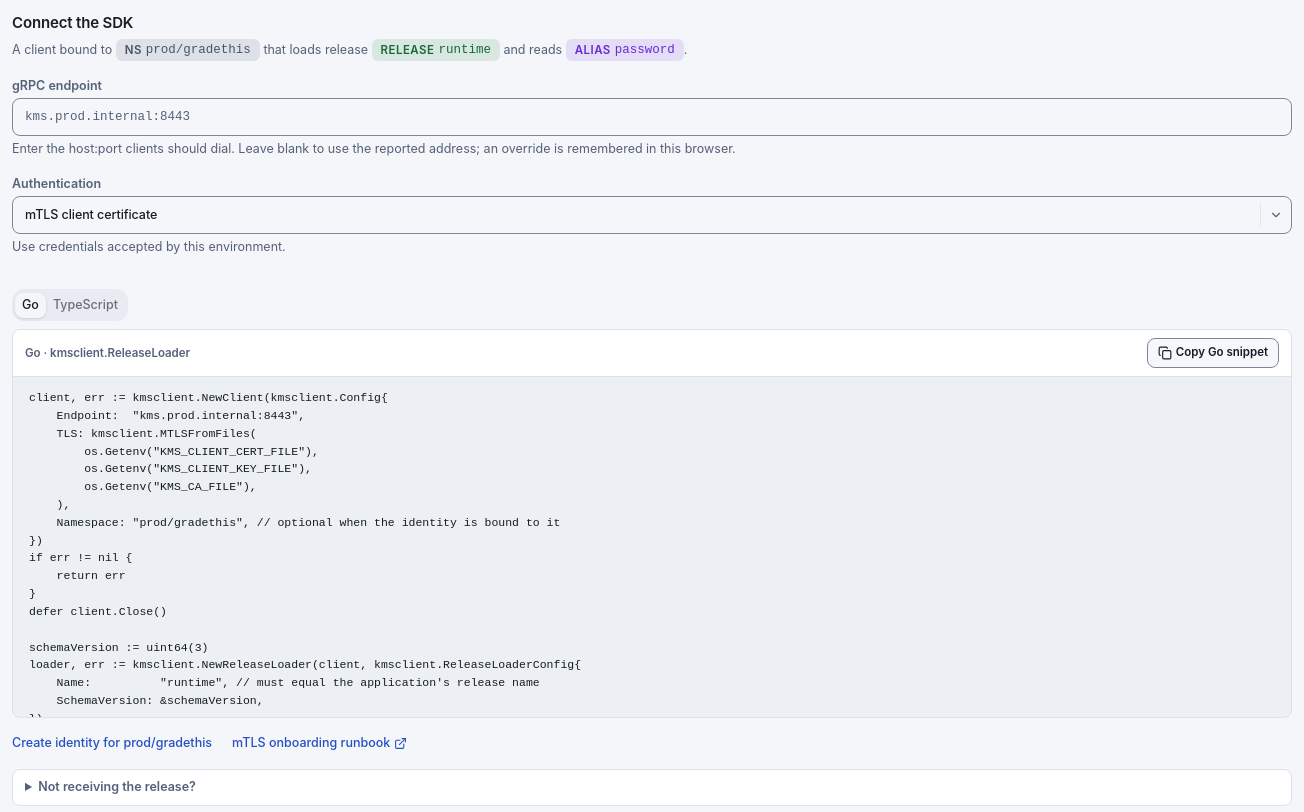
it: typed SDK onboarding › uses a secret-first mixed contract and preserves the chosen authentication and return track
Click the dropdown named "Authentication": [91, 215] box 12,196 -> 1292,234
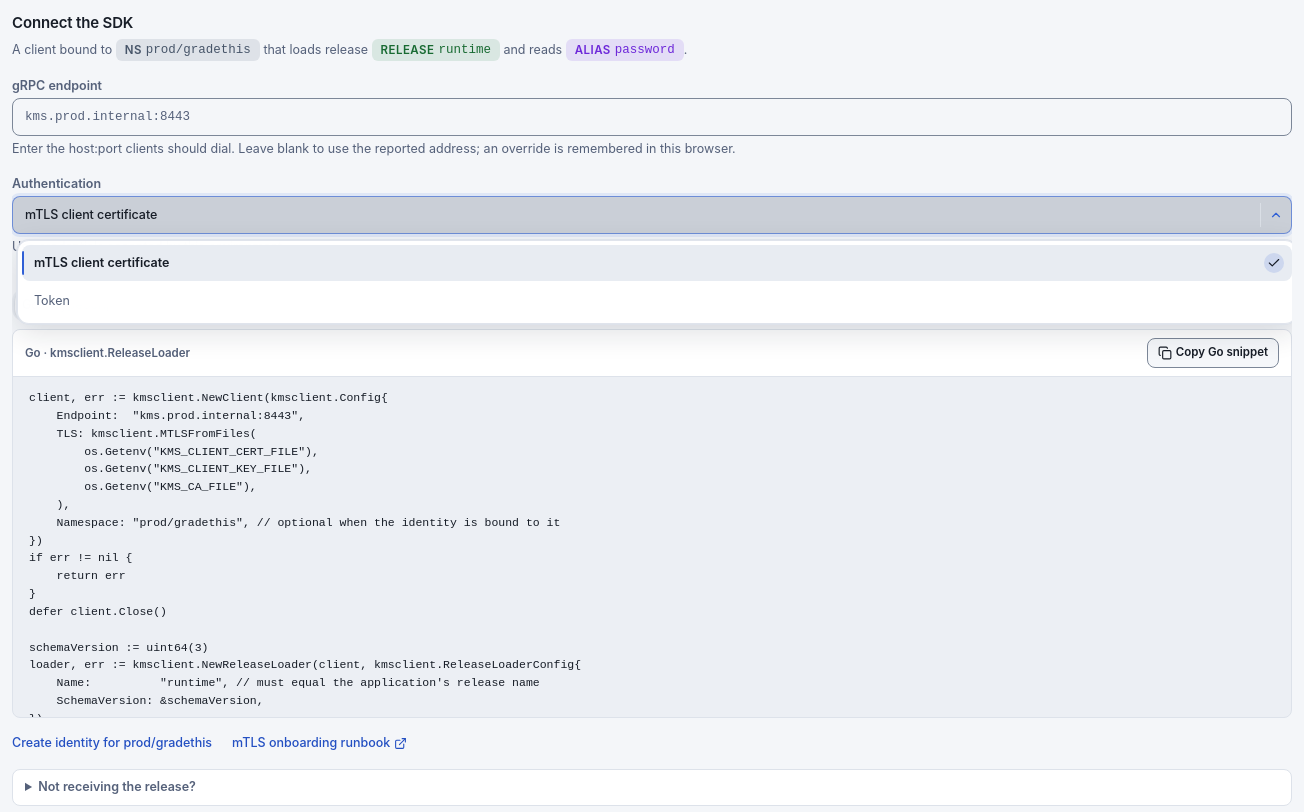
Click the option "Token": [52, 301] box 34,293 -> 70,308
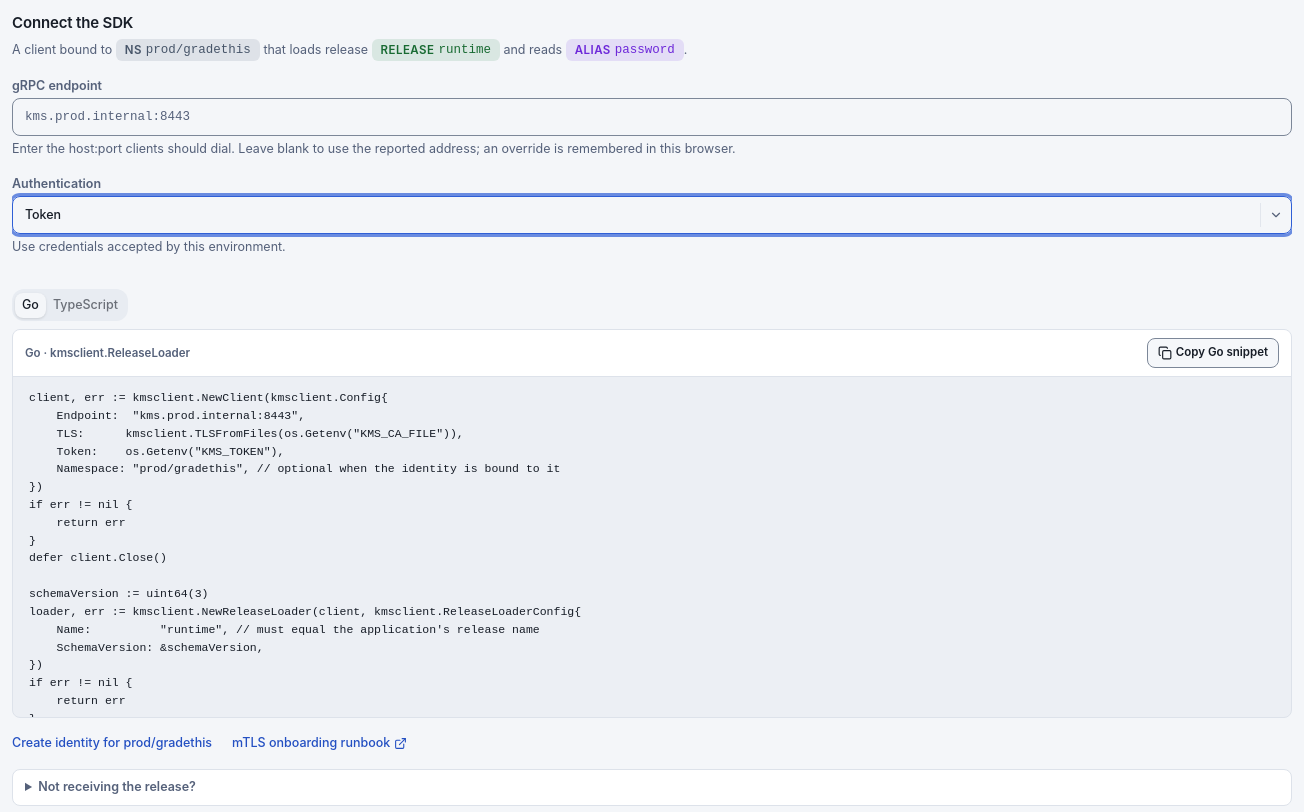
Click the tab "TypeScript": [85, 305] box 46,293 -> 125,318
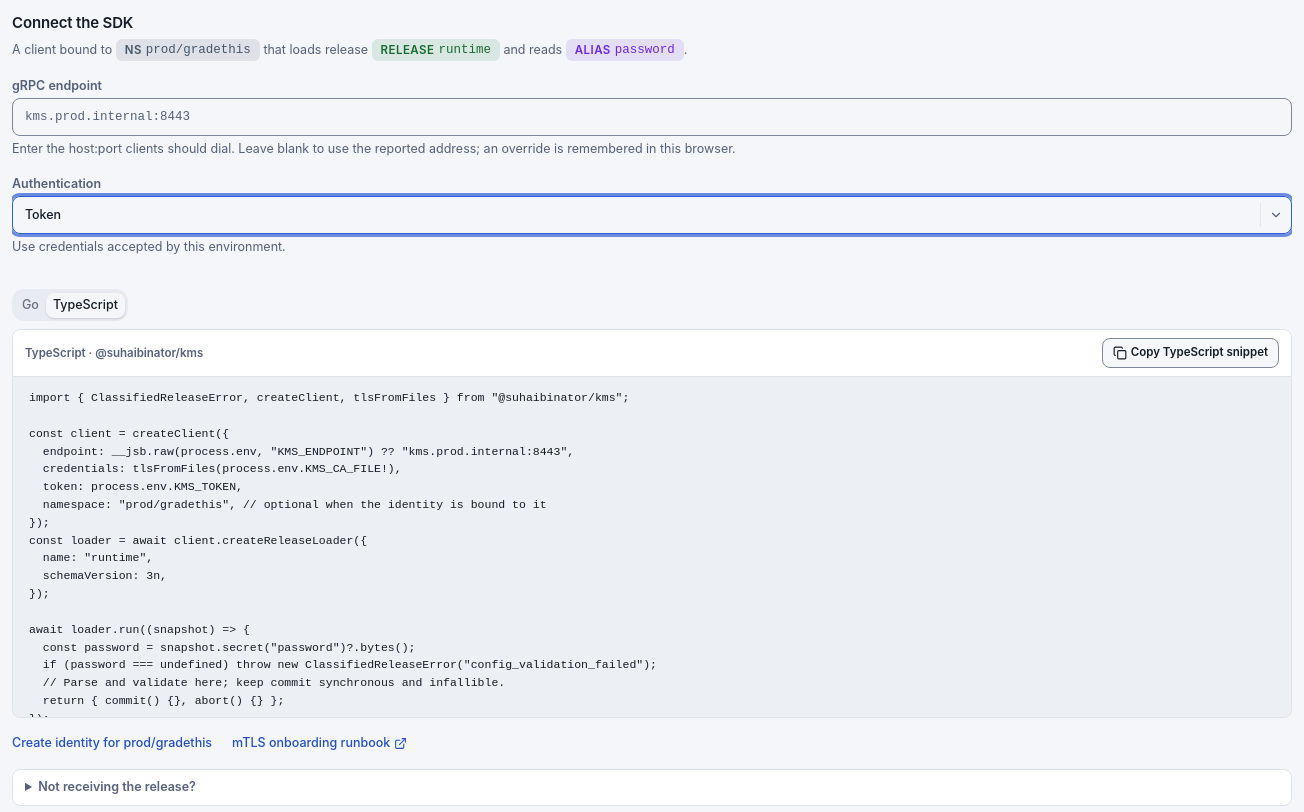
Expected: the text "snapshot.secret(\"password\")?.bytes()" is shown, 29,391 -> 657,717
